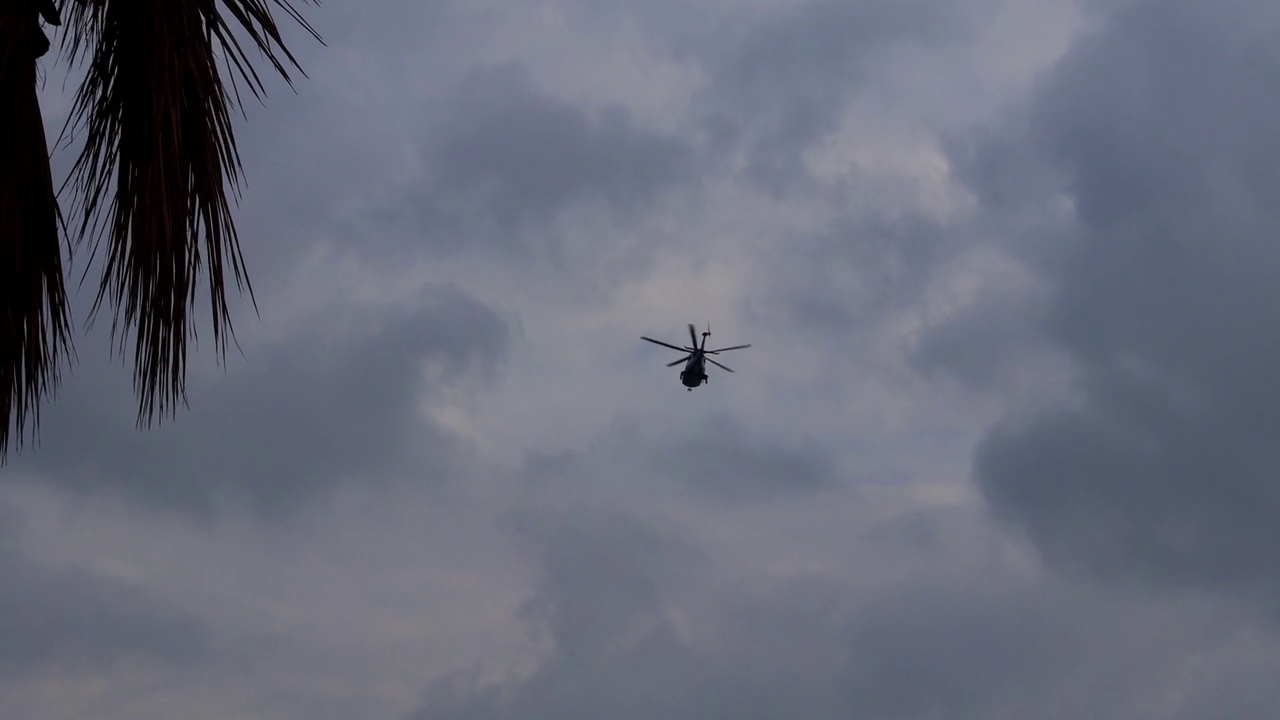heli: (637, 323, 752, 392)
